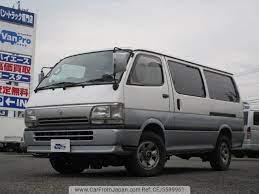van: (21, 45, 246, 171)
